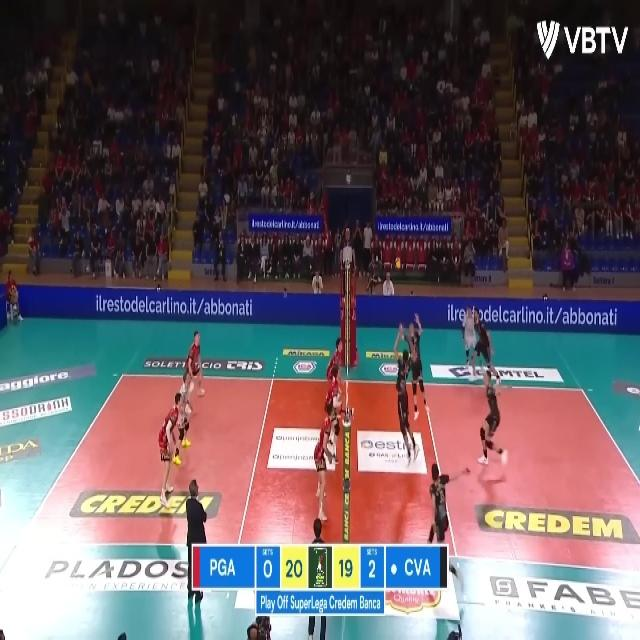volleyball court: (26, 372, 639, 572)
